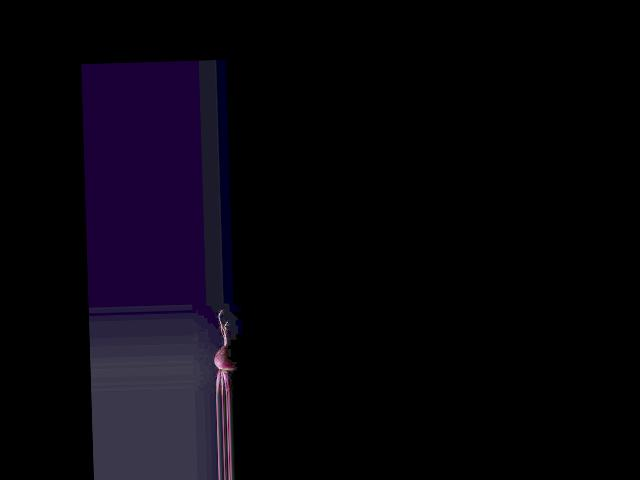beet: (211, 309, 237, 395)
